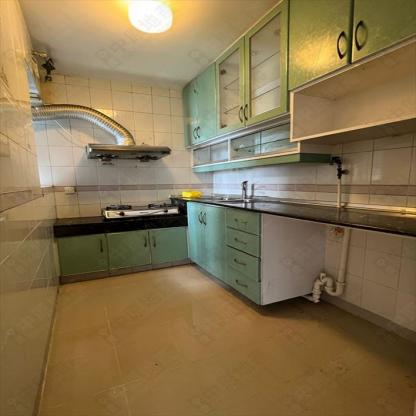Cupboard: (58, 201, 261, 305), (181, 2, 299, 173)
Faucet: (238, 179, 252, 197)
Oven: (31, 104, 171, 162)
Stove: (99, 200, 178, 219)
